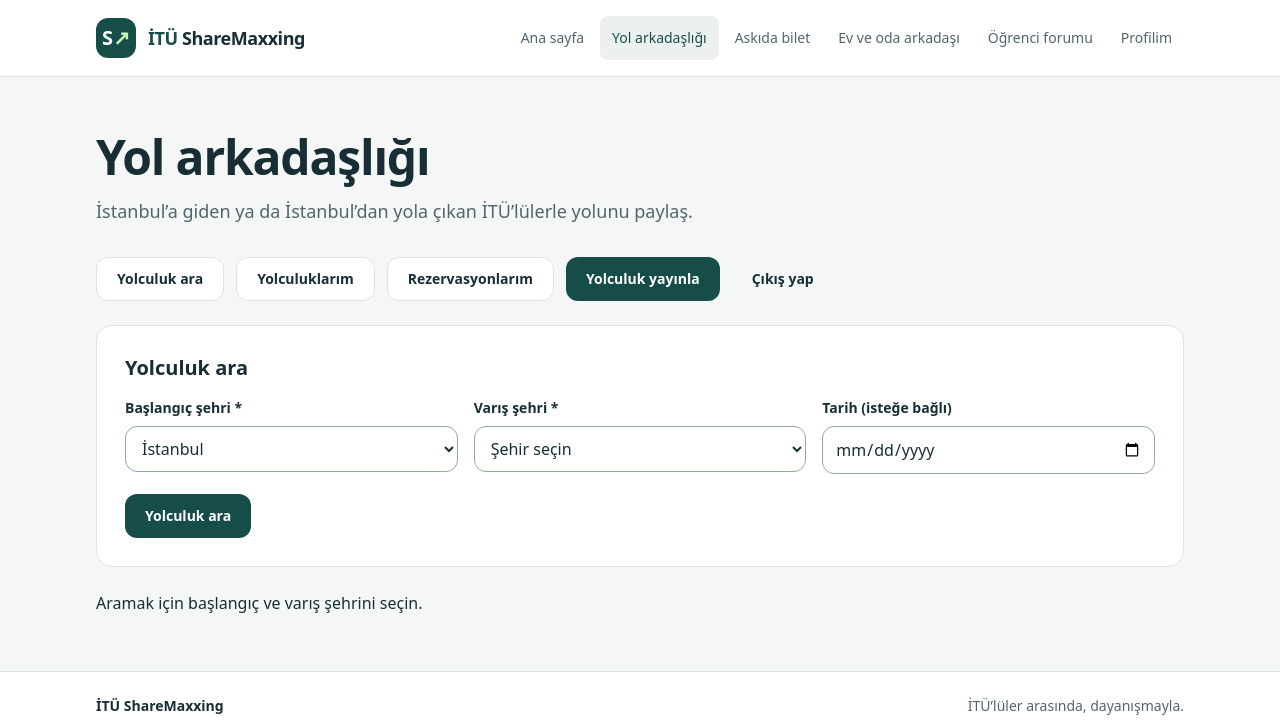
Test case: validates search inputs and rejects same-city or non-İstanbul routes
Select "İstanbul" in the dropdown labelled "Başlangıç şehri *" at (291, 449), box [125, 426, 458, 472]
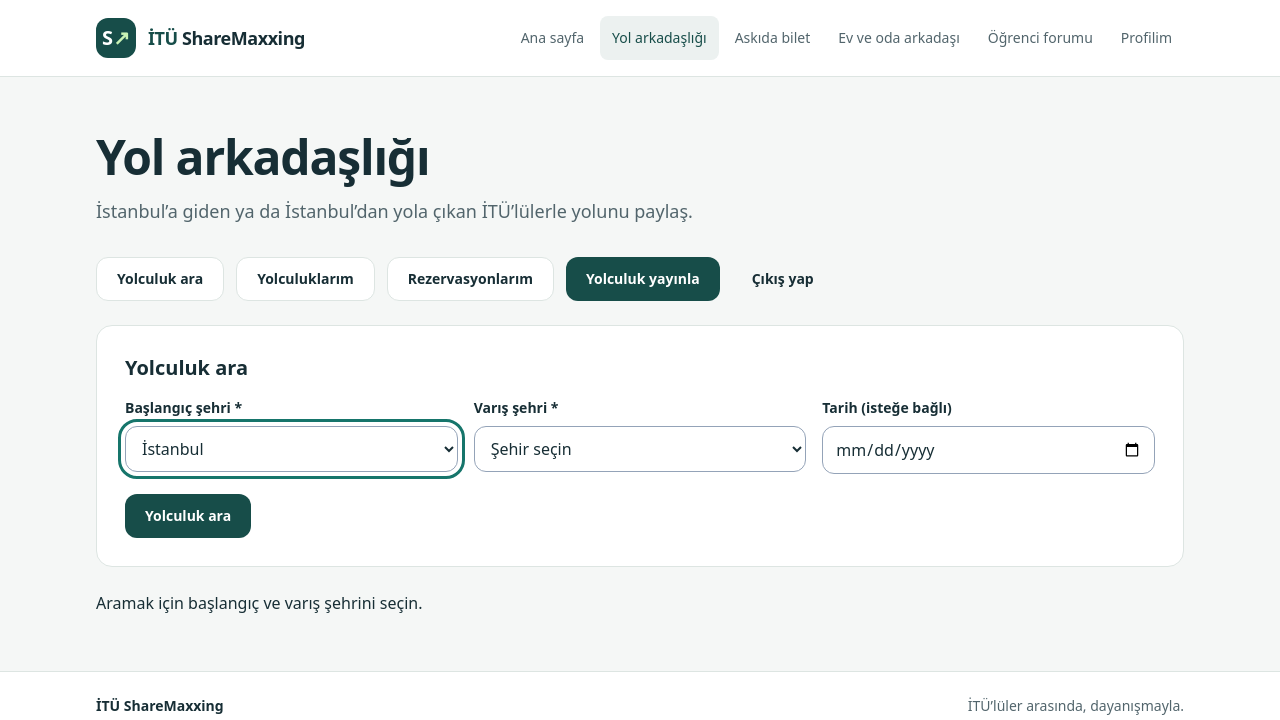
Select "İstanbul" in the dropdown labelled "Varış şehri *" at (640, 449), box [474, 426, 806, 472]
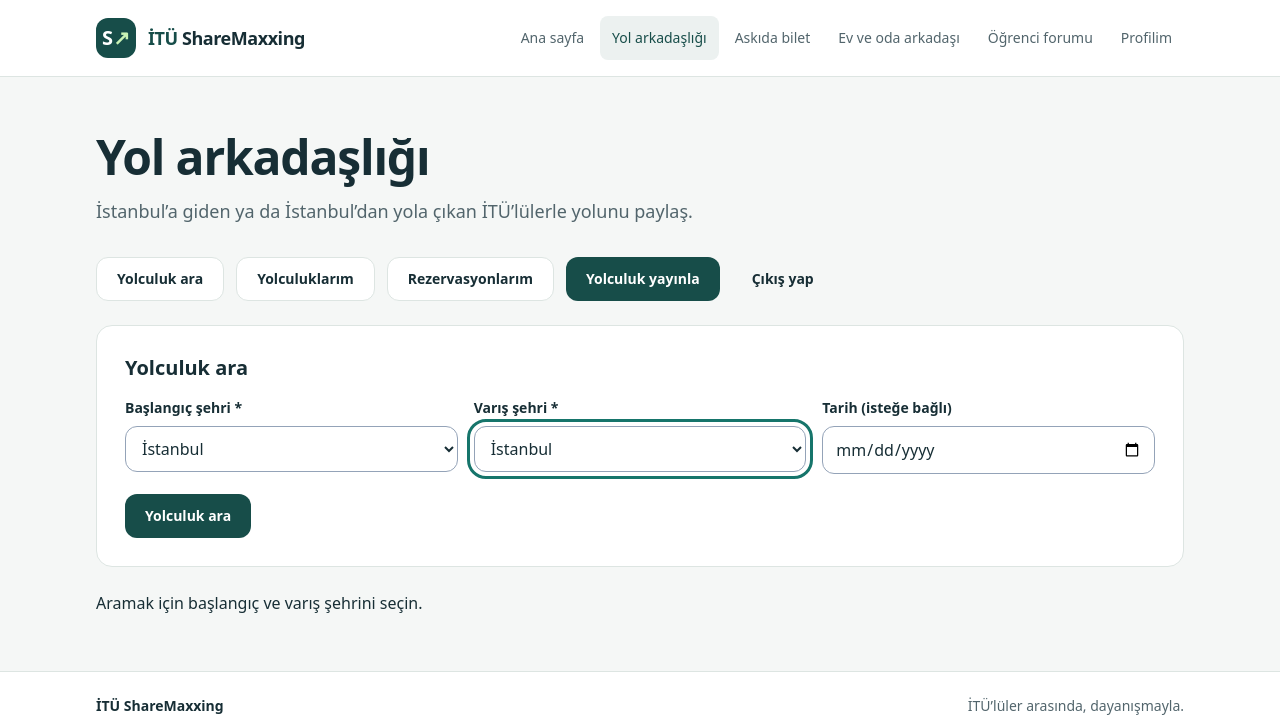
Click the button "Yolculuk ara" at (188, 516), box [125, 494, 251, 538]
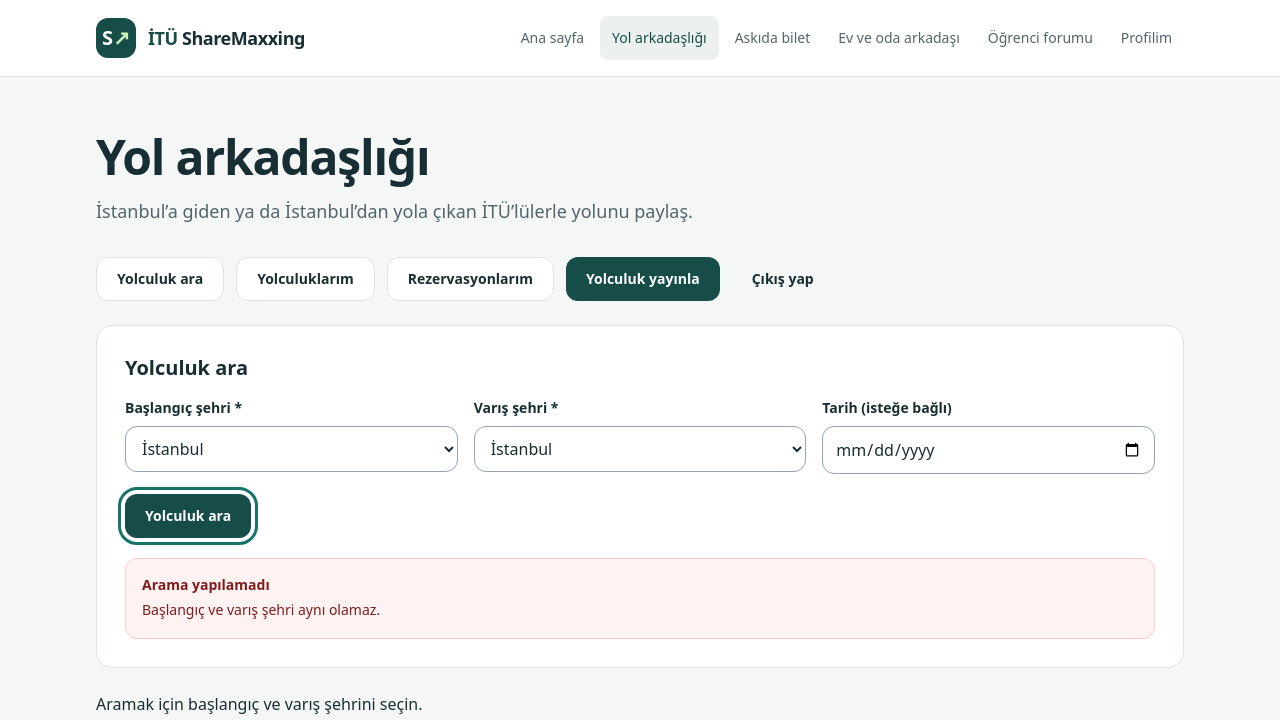
Now the message "Arama yapılamadı Başlangıç ve varış şehri aynı olamaz." is shown, box [125, 558, 1155, 639]
Select "Ankara" in the dropdown labelled "Başlangıç şehri *" at (291, 449), box [125, 426, 458, 472]
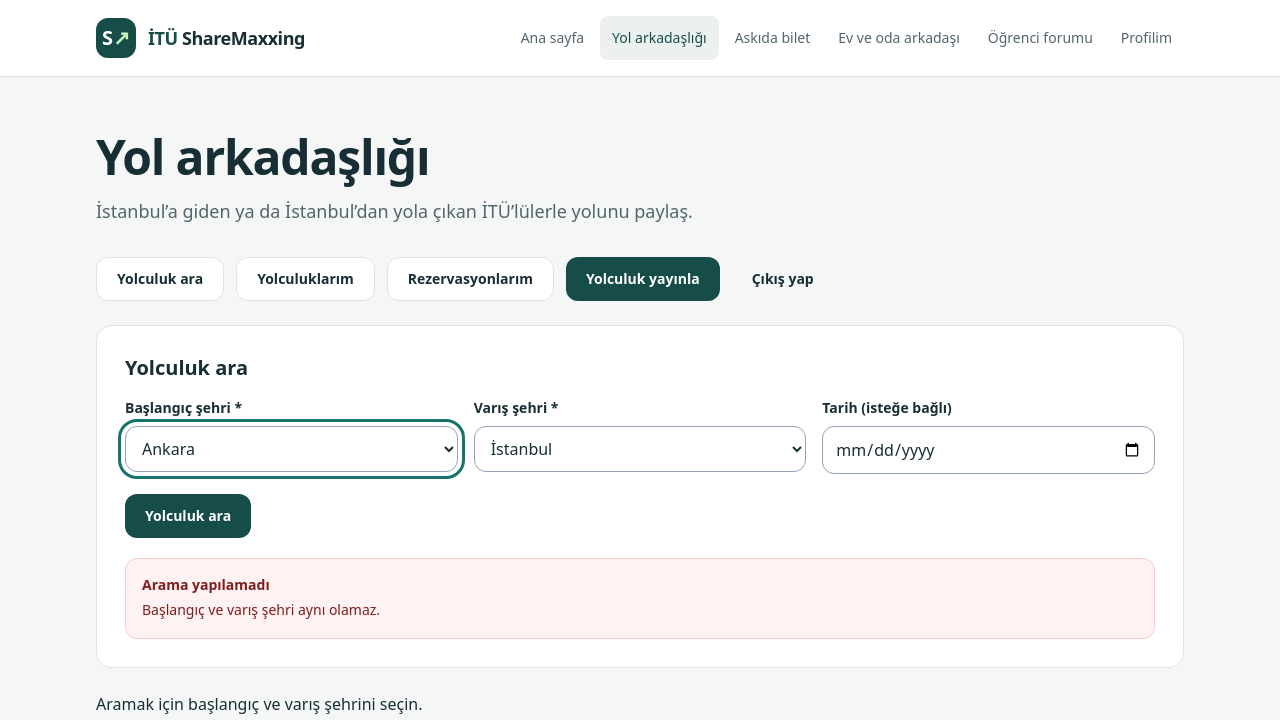
Select "İzmir" in the dropdown labelled "Varış şehri *" at (640, 449), box [474, 426, 806, 472]
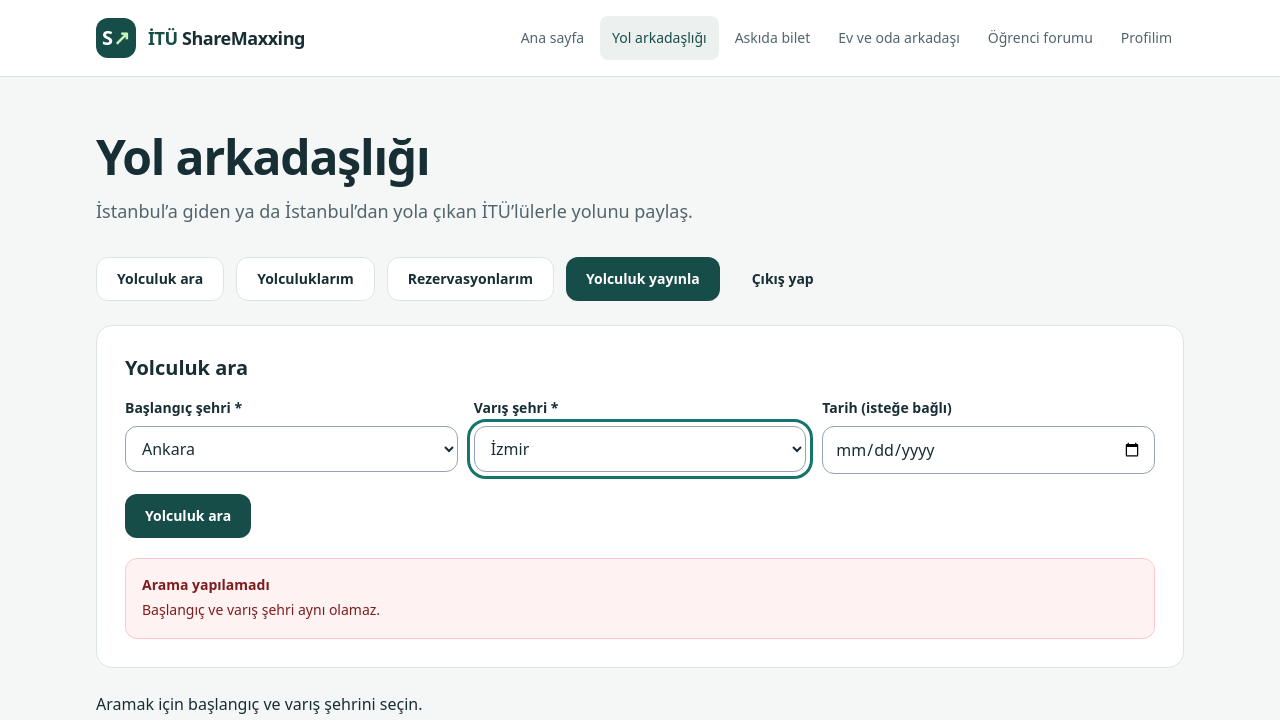
Click the button "Yolculuk ara" at (188, 516), box [125, 494, 251, 538]
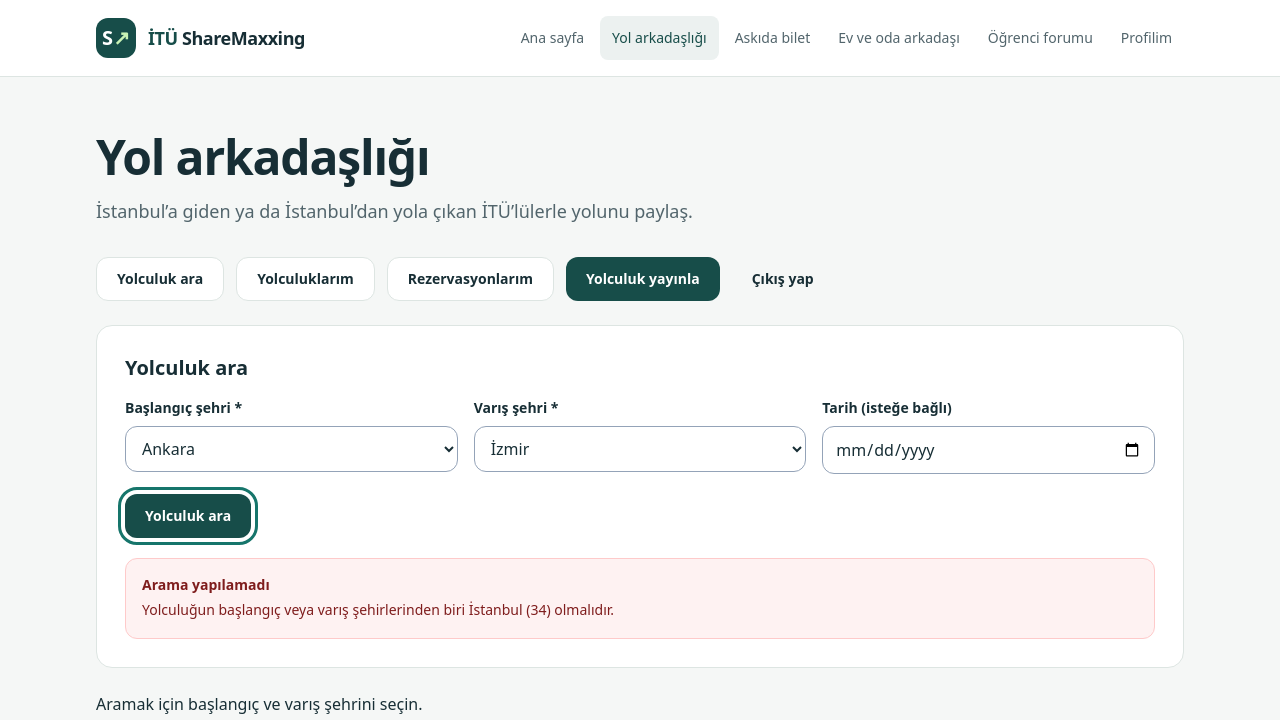
Now the message that starts with "Arama yapılamadı" shows "Yolculuğun başlangıç veya varış şehirlerinden biri İstanbul (34) olmalıdır.", box [142, 600, 614, 619]
